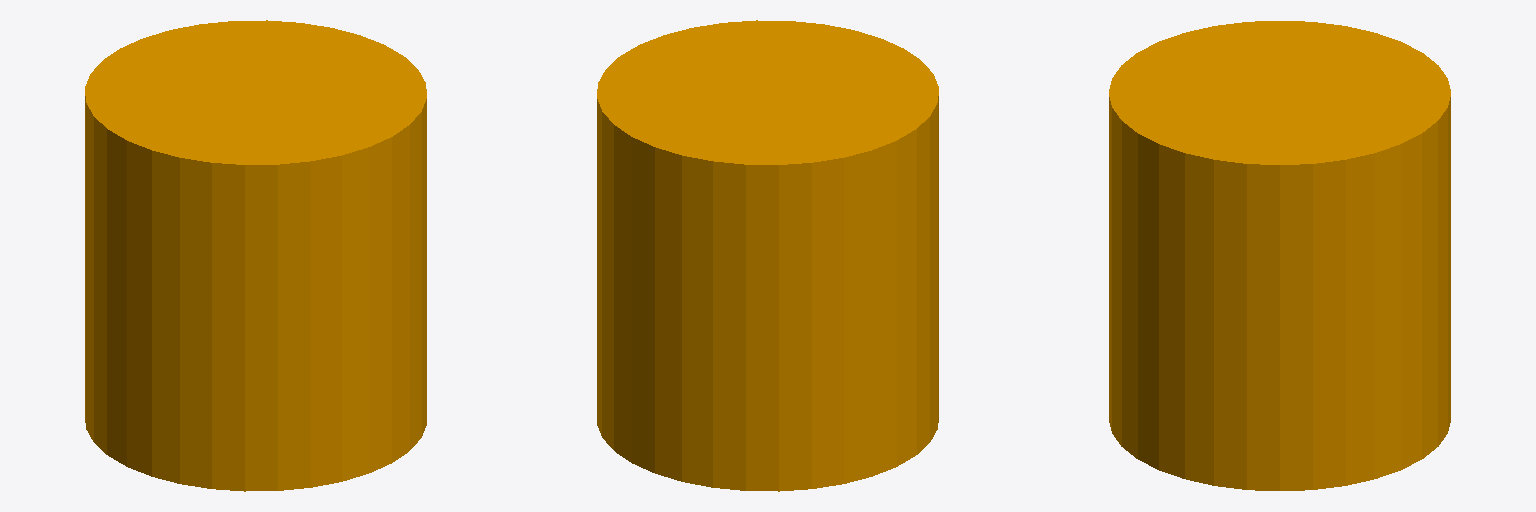
The robot description file, URDF, robot "object":
<robot name="object">
  <link name="object">
    <visual>
      <origin xyz="0 0 0" />
      <geometry>
        <cylinder length="0.08400000000000002" radius="0.04" />
      </geometry>
    </visual>

    <collision>
      <origin xyz="0 0 0" />
      <geometry>
        <cylinder length="0.08400000000000002" radius="0.04" />
      </geometry>
    </collision>

    <inertial>
      <mass value="0.05" />
      <inertia ixx="0.0001" ixy="0.0" ixz="0.0" iyy="0.0001" iyz="0.0" izz="0.0001" />
    </inertial>
  </link>
</robot>

--- Facts derived from the render (not from the file) ---
Views: 3 orthographic renders of the robot side by side, from view 1: azimuth 30°, elevation 25°; view 2: azimuth 150°, elevation 25°; view 3: azimuth 270°, elevation 25°.
Robot: object — 1 links, 0 joints (none); root link object; default pose: all joints at 0.
Links seen in each view (by area): view 1: object; view 2: object; view 3: object.
Link boxes in pixels (<box>): object: <box>85,20,426,491</box>; object: <box>597,20,938,491</box>; object: <box>1109,21,1450,490</box>.
Bounding box of the posed robot: 0.08 × 0.08 × 0.084 m (x, y, z).
Geometry: primitives only (box / cylinder / sphere), no mesh files.